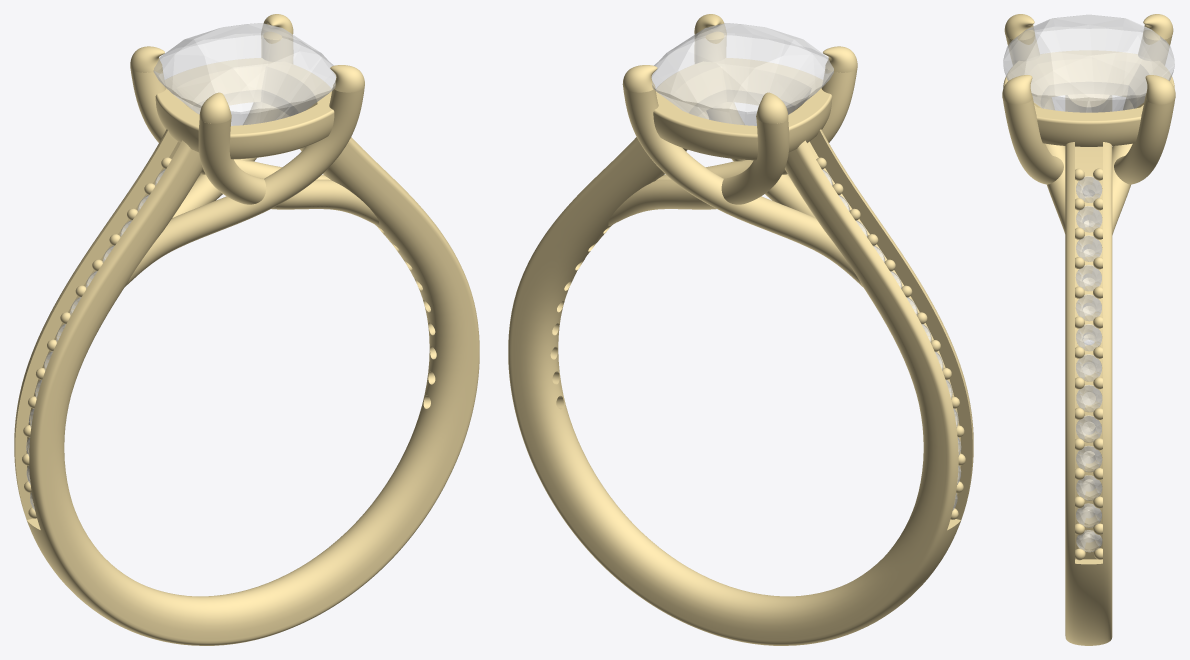
3 renders of one model, left to right at view 1: azimuth 30°, elevation 25°; view 2: azimuth 150°, elevation 25°; view 3: azimuth 270°, elevation 25°, orthographic.
Parts seen in each view (by area): view 1: NNObj_28, NNObj_13, NNObj_27, NNObj_31, NNObj_29, NNObj_34, NNObj_36, NNObj_30, NNObj_32, NNObj_35, NNObj_33; view 2: NNObj_28, NNObj_13, NNObj_27, NNObj_34, NNObj_36, NNObj_31, NNObj_29, NNObj_35, NNObj_33, NNObj_30, NNObj_32; view 3: NNObj_28, NNObj_13, NNObj_27, NNObj_31, NNObj_34, NNObj_29, NNObj_36, NNObj_32, NNObj_33, NNObj_30, NNObj_35, NNObj_7 (+12 smaller).
Part boxes in pixels (left/top/right/bottom): NNObj_28: left=14, top=111, right=479, bottom=645; NNObj_13: left=153, top=23, right=336, bottom=125; NNObj_27: left=155, top=58, right=334, bottom=159; NNObj_31: left=125, top=86, right=364, bottom=286; NNObj_29: left=198, top=118, right=379, bottom=225; NNObj_34: left=172, top=35, right=293, bottom=217; NNObj_36: left=130, top=67, right=330, bottom=179; NNObj_30: left=199, top=92, right=231, bottom=123; NNObj_32: left=330, top=65, right=364, bottom=92; NNObj_35: left=130, top=46, right=164, bottom=72; NNObj_33: left=261, top=14, right=293, bottom=39; NNObj_28: left=508, top=111, right=973, bottom=645; NNObj_13: left=651, top=23, right=833, bottom=125; NNObj_27: left=653, top=58, right=832, bottom=160; NNObj_34: left=623, top=84, right=862, bottom=286; NNObj_36: left=608, top=118, right=789, bottom=225; NNObj_31: left=694, top=35, right=815, bottom=218; NNObj_29: left=657, top=67, right=857, bottom=179; NNObj_35: left=756, top=92, right=788, bottom=123; NNObj_33: left=622, top=65, right=657, bottom=92; NNObj_30: left=823, top=46, right=857, bottom=72; NNObj_32: left=694, top=14, right=726, bottom=39; NNObj_28: left=1065, top=94, right=1112, bottom=645; NNObj_13: left=1003, top=14, right=1174, bottom=112; NNObj_27: left=1003, top=50, right=1174, bottom=146; NNObj_31: left=1003, top=98, right=1063, bottom=184; NNObj_34: left=1114, top=98, right=1174, bottom=184; NNObj_29: left=1005, top=35, right=1095, bottom=337; NNObj_36: left=1082, top=35, right=1172, bottom=337; NNObj_32: left=1002, top=75, right=1032, bottom=104; NNObj_33: left=1145, top=75, right=1175, bottom=104; NNObj_30: left=1004, top=14, right=1034, bottom=40; NNObj_35: left=1143, top=14, right=1173, bottom=40; NNObj_7: left=1076, top=385, right=1102, bottom=412.
Bounding box in the file's own units: 0.021 × 0.0264 × 0.00708.
